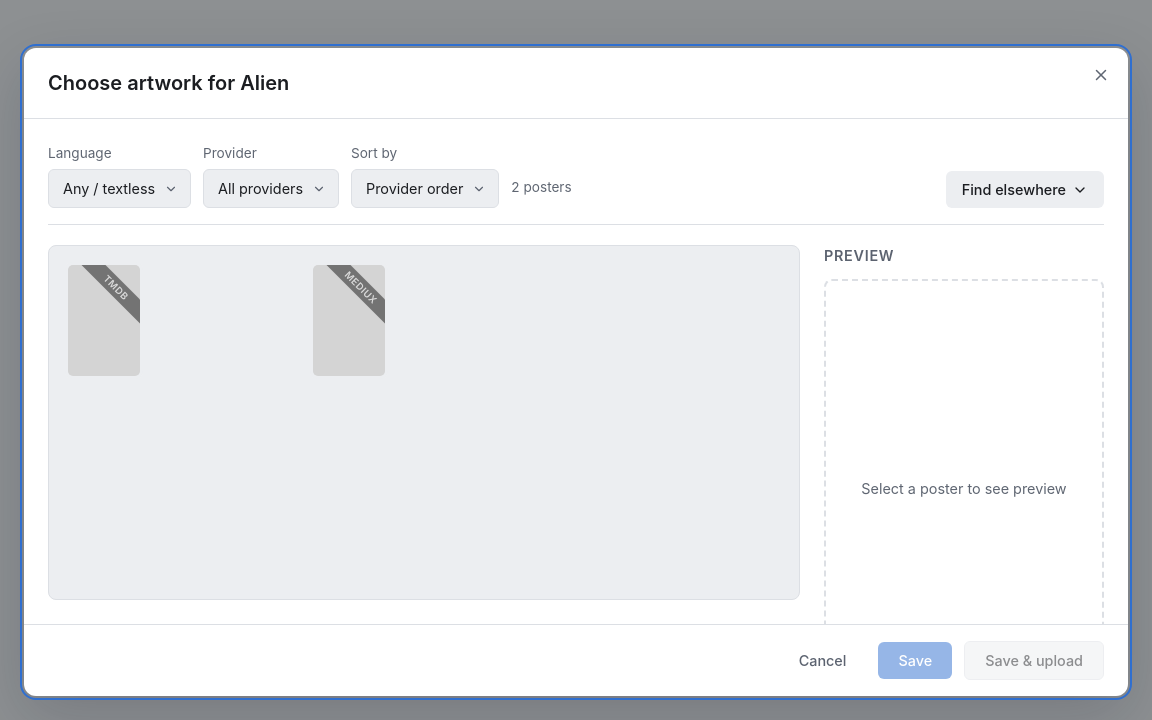
Test: PosterBrowserModal — filling the grid › keeps title search and own images folded until asked for
Expected: the field labelled "Search by title" is not shown
Click the button "Find elsewhere" at (1025, 190), box [946,171,1104,208]
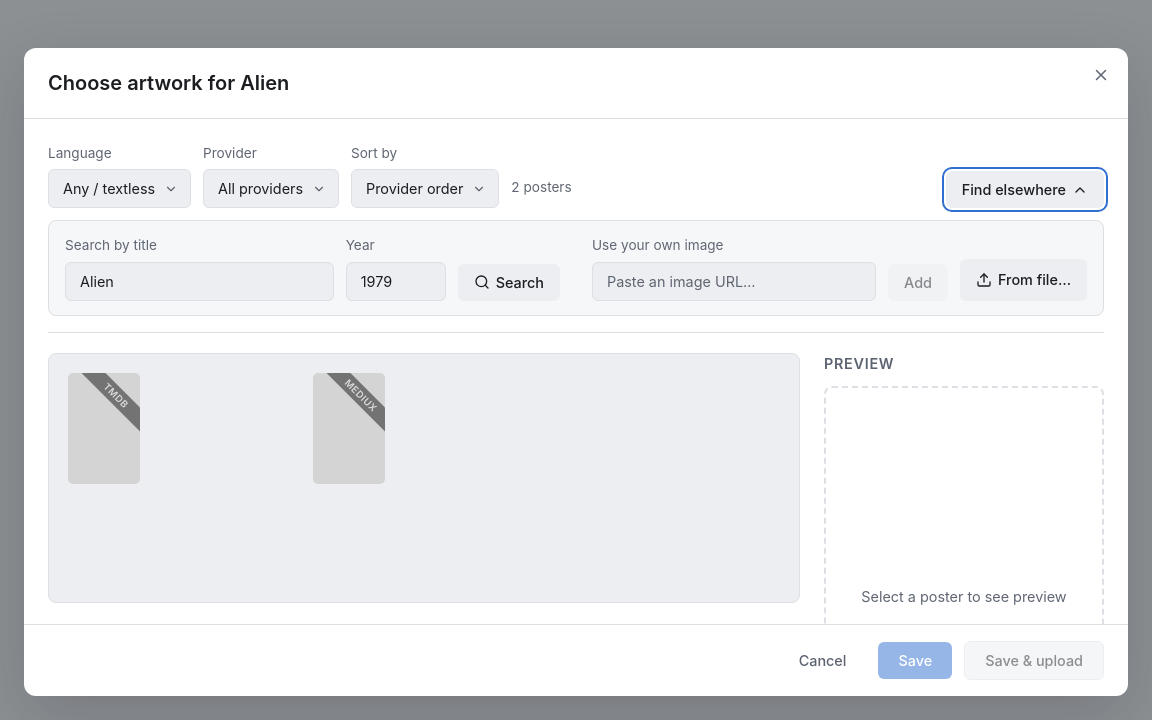
Now the field labelled "Search by title" is shown, box [65,262,334,301]
Now the field labelled "Use your own image" is shown, box [592,262,876,301]
